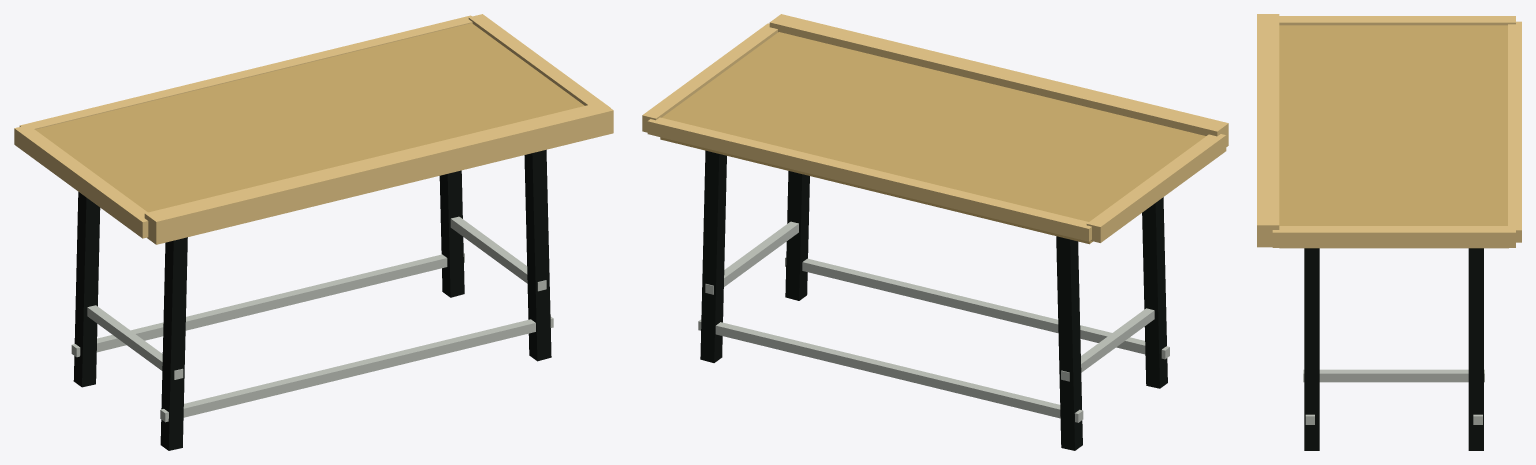
Rendered from pickup-table.glb.
3 views of the same model, side by side, from view 1: azimuth 30°, elevation 25°; view 2: azimuth 150°, elevation 25°; view 3: azimuth 270°, elevation 25° (orthographic). The views are drawn at different scales.
Visible parts, largest first — view 1: Pickup_Table_Surface, Pickup_Table_Front_Depth_Edge, Pickup_Table_Front_Foot_Rail, Pickup_Table_Back_Foot_Rail, Pickup_Table_Angled_Leg_-1.16_0.48, Pickup_Table_Angled_Leg_1.16_0.48, Pickup_Table_Angled_Leg_-1.16_-0.48, Pickup_Table_Left_Edge, Pickup_Table_Back_Edge, Pickup_Table_Angled_Leg_1.16_-0.48, Pickup_Table_Right_Edge, Pickup_Table_Right_Side_Rail (+1 smaller); view 2: Pickup_Table_Surface, Pickup_Table_Back_Edge, Pickup_Table_Front_Depth_Edge, Pickup_Table_Back_Foot_Rail, Pickup_Table_Angled_Leg_-1.16_-0.48, Pickup_Table_Angled_Leg_1.16_-0.48, Pickup_Table_Front_Foot_Rail, Pickup_Table_Left_Edge, Pickup_Table_Angled_Leg_-1.16_0.48, Pickup_Table_Angled_Leg_1.16_0.48, Pickup_Table_Right_Edge, Pickup_Table_Right_Side_Rail (+1 smaller); view 3: Pickup_Table_Surface, Pickup_Table_Right_Edge, Pickup_Table_Front_Depth_Edge, Pickup_Table_Angled_Leg_1.16_-0.48, Pickup_Table_Angled_Leg_1.16_0.48, Pickup_Table_Back_Edge, Pickup_Table_Left_Edge, Pickup_Table_Right_Side_Rail.
Boxes of the visible parts, x1=… form: Pickup_Table_Surface: x1=35, y1=23, x2=584, y2=212; Pickup_Table_Front_Depth_Edge: x1=144, y1=102, x2=613, y2=244; Pickup_Table_Front_Foot_Rail: x1=160, y1=316, x2=553, y2=422; Pickup_Table_Back_Foot_Rail: x1=71, y1=253, x2=464, y2=357; Pickup_Table_Angled_Leg_-1.16_0.48: x1=160, y1=237, x2=187, y2=450; Pickup_Table_Angled_Leg_1.16_0.48: x1=524, y1=149, x2=551, y2=361; Pickup_Table_Angled_Leg_-1.16_-0.48: x1=73, y1=192, x2=100, y2=387; Pickup_Table_Left_Edge: x1=14, y1=125, x2=148, y2=238; Pickup_Table_Back_Edge: x1=19, y1=15, x2=472, y2=129; Pickup_Table_Angled_Leg_1.16_-0.48: x1=439, y1=170, x2=464, y2=297; Pickup_Table_Right_Edge: x1=468, y1=14, x2=610, y2=107; Pickup_Table_Right_Side_Rail: x1=450, y1=216, x2=546, y2=291; Pickup_Table_Surface: x1=660, y1=32, x2=1205, y2=244; Pickup_Table_Back_Edge: x1=647, y1=117, x2=1091, y2=241; Pickup_Table_Front_Depth_Edge: x1=769, y1=14, x2=1228, y2=146; Pickup_Table_Back_Foot_Rail: x1=698, y1=319, x2=1083, y2=422; Pickup_Table_Angled_Leg_-1.16_-0.48: x1=1056, y1=236, x2=1082, y2=450; Pickup_Table_Angled_Leg_1.16_-0.48: x1=700, y1=150, x2=726, y2=362; Pickup_Table_Front_Foot_Rail: x1=785, y1=257, x2=1169, y2=359; Pickup_Table_Left_Edge: x1=1086, y1=134, x2=1226, y2=242; Pickup_Table_Angled_Leg_-1.16_0.48: x1=1142, y1=197, x2=1167, y2=388; Pickup_Table_Angled_Leg_1.16_0.48: x1=785, y1=171, x2=809, y2=300; Pickup_Table_Right_Edge: x1=642, y1=23, x2=777, y2=132; Pickup_Table_Right_Side_Rail: x1=705, y1=221, x2=798, y2=294; Pickup_Table_Surface: x1=1279, y1=25, x2=1508, y2=248; Pickup_Table_Right_Edge: x1=1272, y1=226, x2=1515, y2=247; Pickup_Table_Front_Depth_Edge: x1=1257, y1=14, x2=1279, y2=247; Pickup_Table_Angled_Leg_1.16_-0.48: x1=1468, y1=248, x2=1483, y2=450; Pickup_Table_Angled_Leg_1.16_0.48: x1=1304, y1=248, x2=1319, y2=450; Pickup_Table_Back_Edge: x1=1508, y1=21, x2=1521, y2=242; Pickup_Table_Left_Edge: x1=1279, y1=16, x2=1515, y2=25; Pickup_Table_Right_Side_Rail: x1=1303, y1=369, x2=1484, y2=382.
Size of what is drawn, in the model's own units: 2.99 by 1.57 by 1.54.
